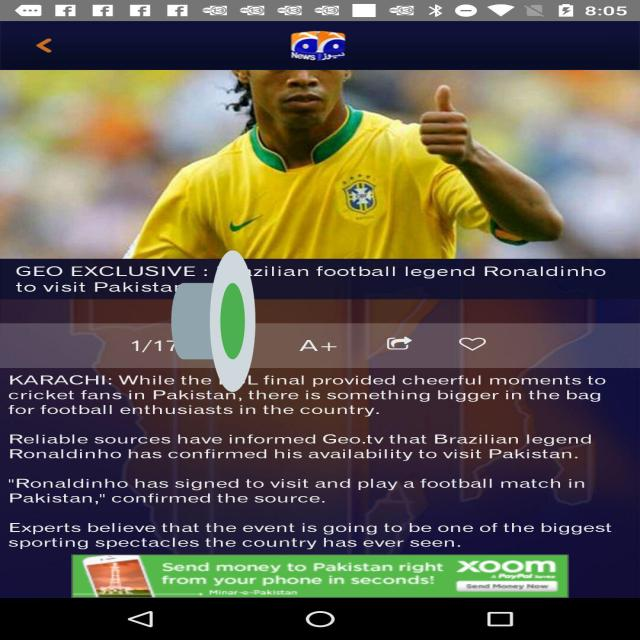social proof: (172, 190, 256, 452)
